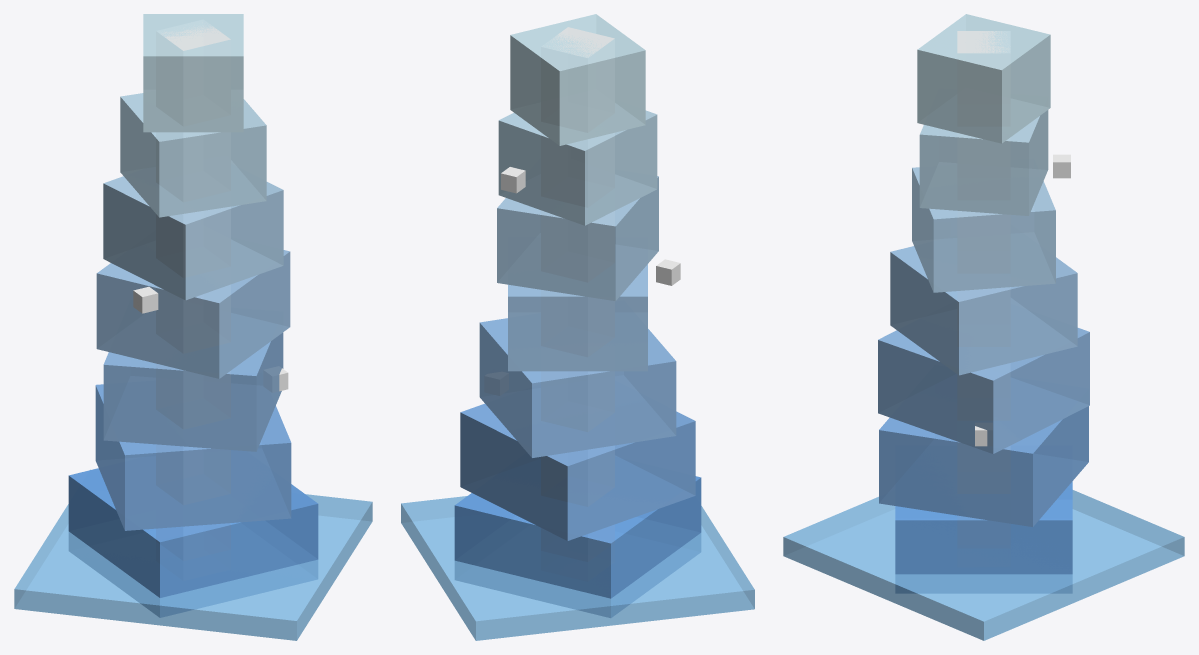
Rendered from WaterNebula.fbx.
3 renders of one model, left to right at view 1: azimuth 30°, elevation 25°; view 2: azimuth 150°, elevation 25°; view 3: azimuth 270°, elevation 25°, orthographic. The views are drawn at different scales.
Visible parts, largest first — view 1: Nebula_Base, Nebula_Layer, Nebula_Layer.001, Nebula_Layer.003, Nebula_Layer.004, Nebula_Layer.002, Nebula_Layer.005, Nebula_Layer.006, Nebula_Core, Nebula_Star.001; view 2: Nebula_Base, Nebula_Layer, Nebula_Layer.001, Nebula_Layer.002, Nebula_Layer.006, Nebula_Layer.004, Nebula_Layer.005, Nebula_Layer.003, Nebula_Core, Nebula_Star.001, Nebula_Star.002; view 3: Nebula_Base, Nebula_Layer.001, Nebula_Layer.002, Nebula_Layer.003, Nebula_Layer, Nebula_Layer.006, Nebula_Layer.004, Nebula_Layer.005, Nebula_Core.
Part boxes in pixels (x1=…): Nebula_Base: x1=14, y1=469, x2=372, y2=640; Nebula_Layer: x1=68, y1=468, x2=318, y2=617; Nebula_Layer.001: x1=95, y1=384, x2=291, y2=530; Nebula_Layer.003: x1=96, y1=250, x2=290, y2=378; Nebula_Layer.004: x1=103, y1=176, x2=283, y2=300; Nebula_Layer.002: x1=103, y1=332, x2=283, y2=451; Nebula_Layer.005: x1=120, y1=93, x2=266, y2=217; Nebula_Layer.006: x1=143, y1=14, x2=243, y2=132; Nebula_Core: x1=159, y1=22, x2=230, y2=50; Nebula_Star.001: x1=133, y1=286, x2=158, y2=313; Nebula_Base: x1=401, y1=496, x2=754, y2=640; Nebula_Layer: x1=454, y1=476, x2=701, y2=617; Nebula_Layer.001: x1=460, y1=403, x2=695, y2=540; Nebula_Layer.002: x1=479, y1=318, x2=676, y2=457; Nebula_Layer.006: x1=510, y1=14, x2=645, y2=145; Nebula_Layer.004: x1=497, y1=176, x2=658, y2=301; Nebula_Layer.005: x1=498, y1=110, x2=657, y2=225; Nebula_Layer.003: x1=508, y1=264, x2=647, y2=371; Nebula_Core: x1=542, y1=27, x2=614, y2=57; Nebula_Star.001: x1=656, y1=259, x2=680, y2=285; Nebula_Star.002: x1=501, y1=167, x2=525, y2=193; Nebula_Base: x1=783, y1=490, x2=1184, y2=640; Nebula_Layer.001: x1=879, y1=406, x2=1088, y2=526; Nebula_Layer.002: x1=878, y1=328, x2=1089, y2=453; Nebula_Layer.003: x1=890, y1=246, x2=1077, y2=375; Nebula_Layer: x1=895, y1=481, x2=1072, y2=593; Nebula_Layer.006: x1=917, y1=14, x2=1050, y2=143; Nebula_Layer.004: x1=912, y1=167, x2=1055, y2=292; Nebula_Layer.005: x1=919, y1=110, x2=1048, y2=215; Nebula_Core: x1=957, y1=31, x2=1010, y2=53.
Size of the model in its own units: 317 by 448 by 317.
